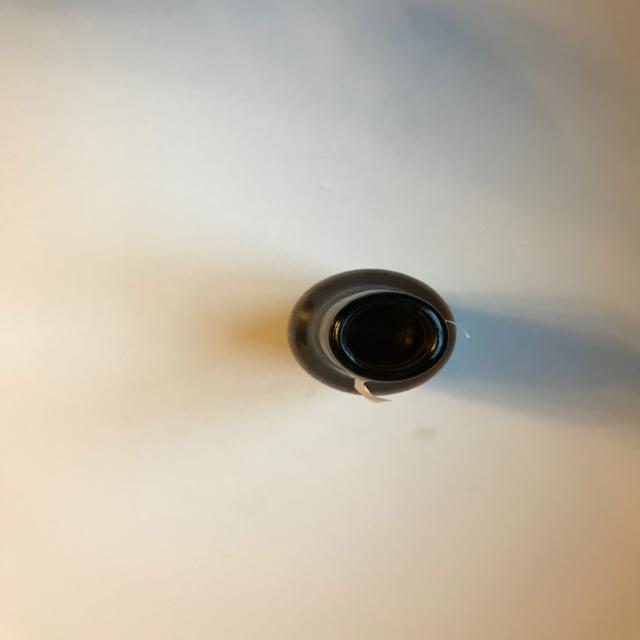glass: (262, 247, 488, 416)
